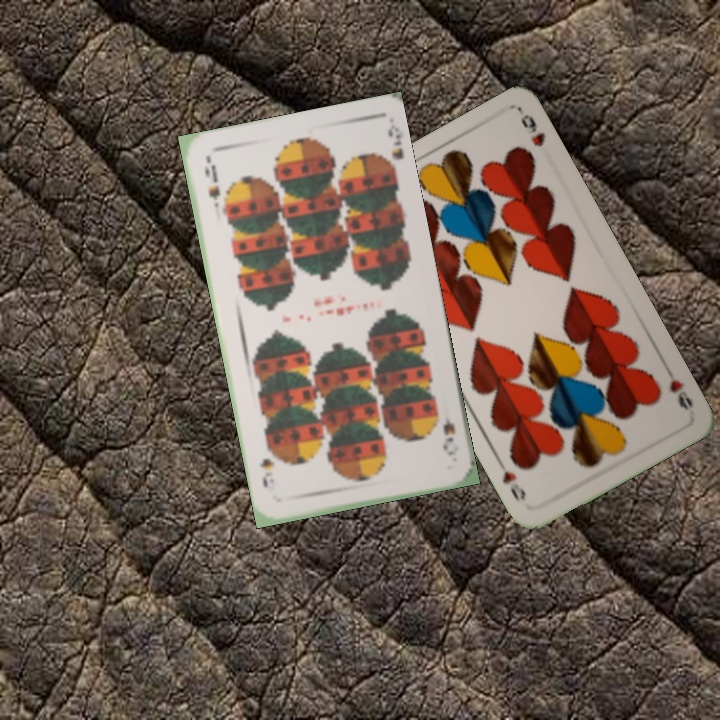H9: (665, 375, 696, 413)
S9: (200, 161, 223, 214), (439, 412, 462, 459)
